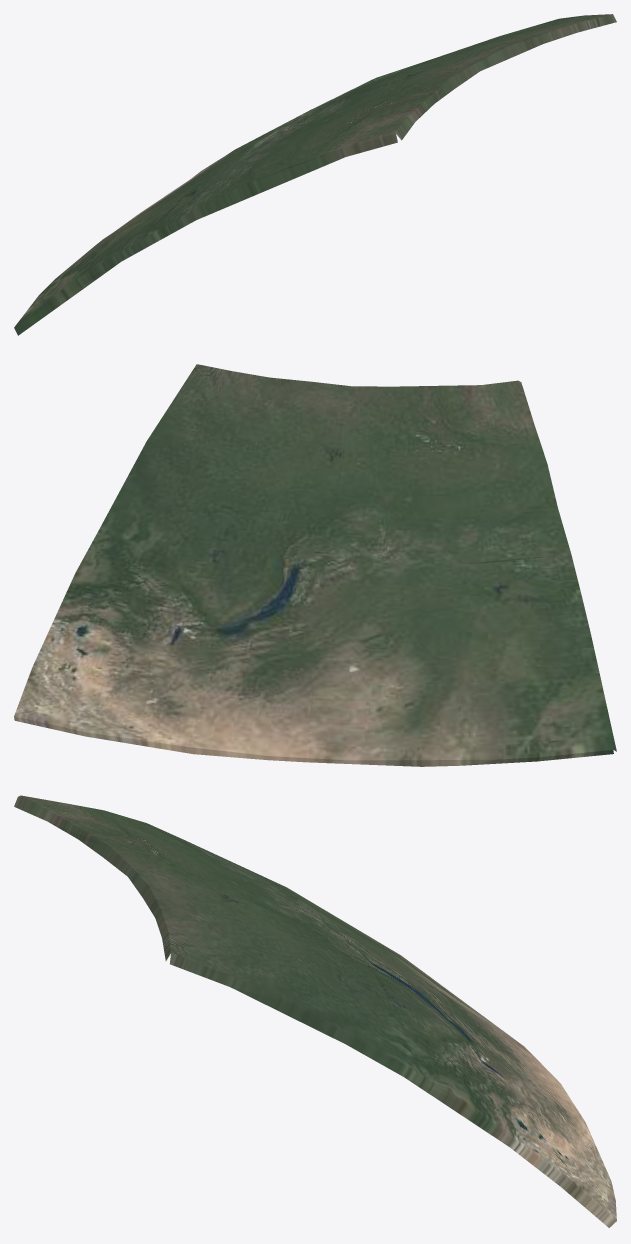
The picture shows the model from 3 angles, top to bottom: view 1: azimuth 30°, elevation 25°; view 2: azimuth 150°, elevation 25°; view 3: azimuth 270°, elevation 25°; orthographic projection. The views are drawn at different scales.
Size of the model in its own units: 3224957 by 1445565 by 2826846.
Materials: 1 (1 with a texture image).
